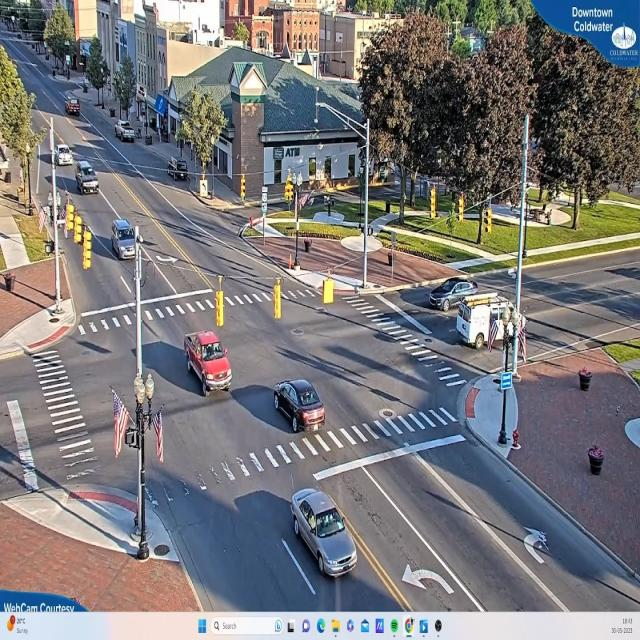car: (291, 491, 357, 582), (185, 332, 233, 394), (272, 378, 326, 432), (430, 280, 480, 311), (112, 219, 139, 260), (80, 162, 100, 194), (117, 121, 138, 143), (65, 98, 80, 114)
truck: (459, 292, 519, 348)
